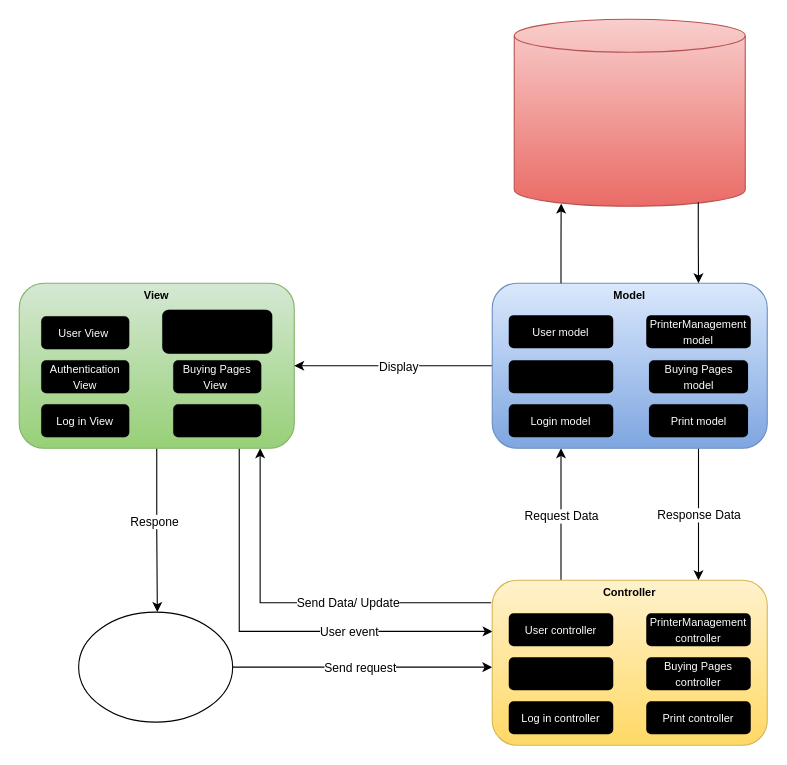
The diagram is 787 pixels wide and 765 high, and some of its shapes have lost their labels. The centre of each missing label's shape, as x and y in pixels:
"Authentication controller" belongs at [560,673].
"Authentication model" belongs at [560,376].
"Database" belongs at [629,112].
"Print View" belongs at [217,420].
"PrinterManagement View" belongs at [217,331].
"User" belongs at [155,666].
